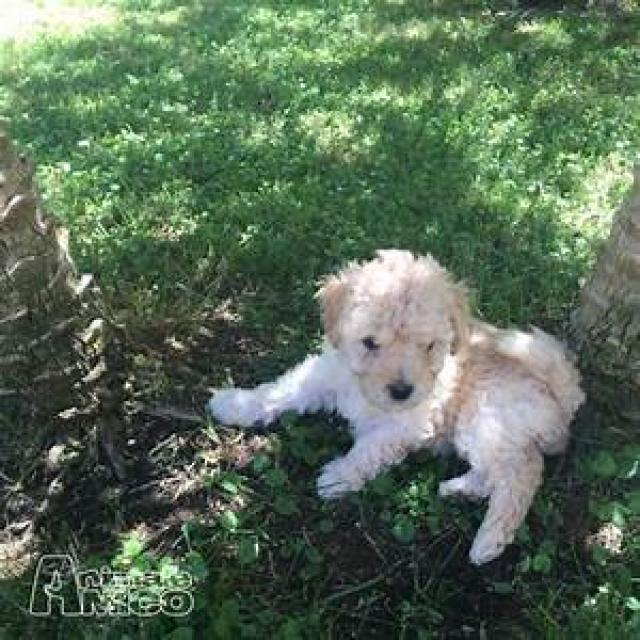dog: (207, 250, 587, 567)
